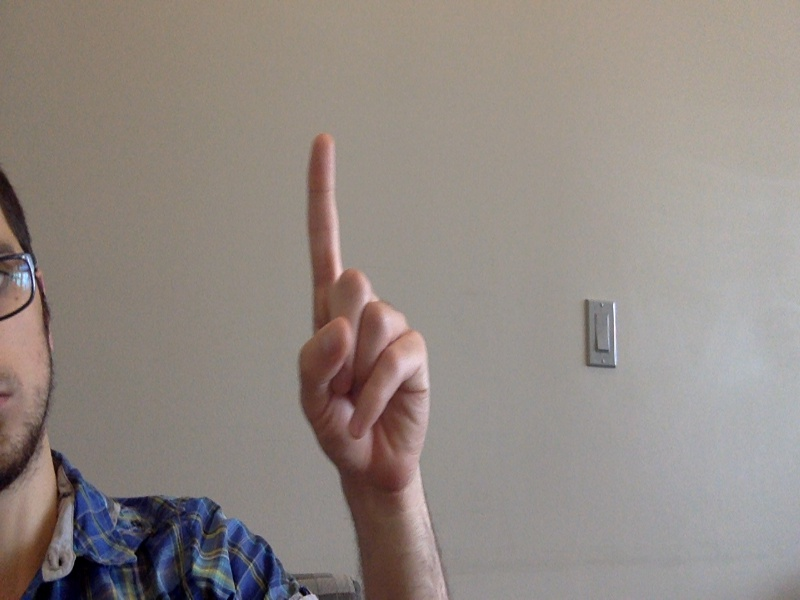1-hand: (297, 133, 435, 503)
